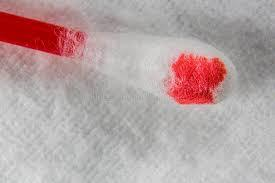cotton: (0, 0, 274, 182), (83, 32, 237, 103), (0, 11, 85, 57), (166, 54, 227, 103)
